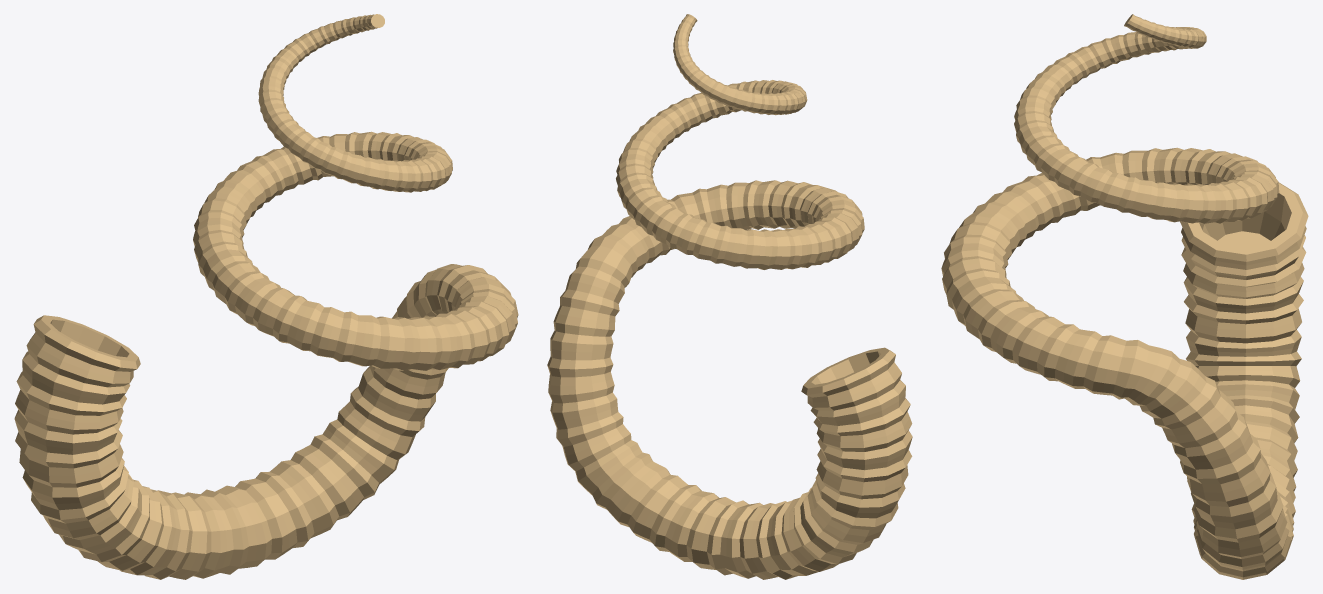
The model's file is didymoceras.glb.
3 renders of one model, left to right at view 1: azimuth 30°, elevation 25°; view 2: azimuth 150°, elevation 25°; view 3: azimuth 270°, elevation 25°, orthographic. The views are drawn at different scales.
Parts seen in each view (by area): view 1: Continuous open helix and hooked final chamber; view 2: Continuous open helix and hooked final chamber; view 3: Continuous open helix and hooked final chamber.
Part boxes in pixels (x1,y1,x2,y2): Continuous open helix and hooked final chamber: (14, 14, 518, 579); Continuous open helix and hooked final chamber: (547, 14, 912, 579); Continuous open helix and hooked final chamber: (941, 14, 1308, 579).
Size of the model in its own units: 0.23 by 0.3 by 0.17.
